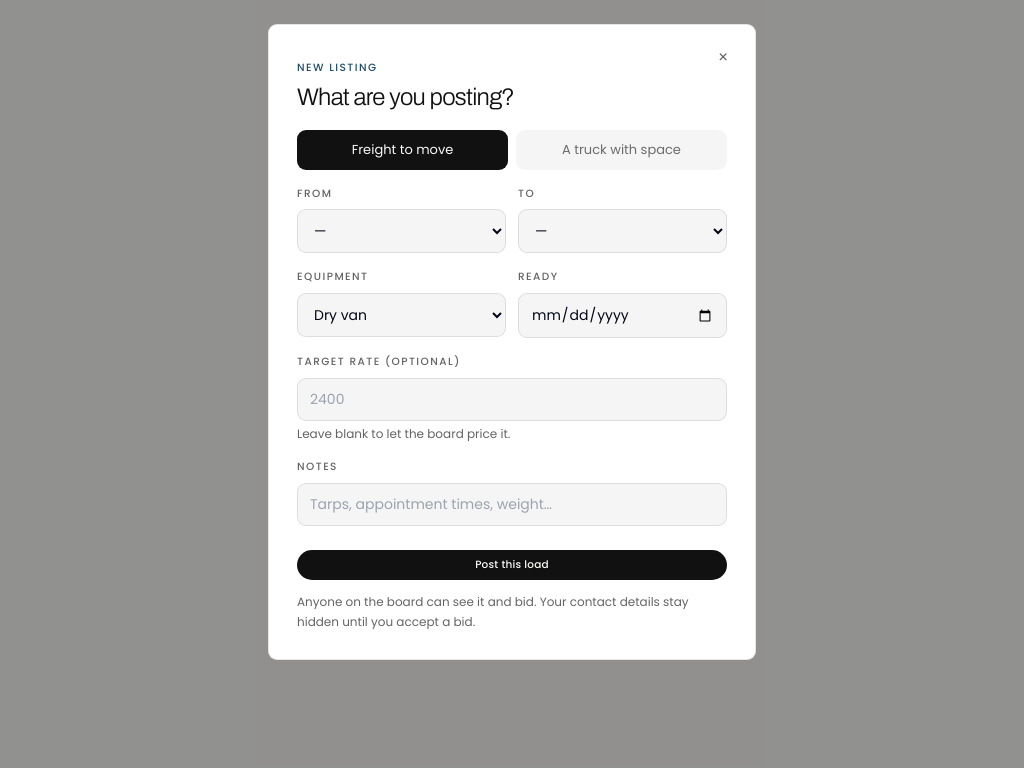
PostListing › 1.1 createListing rejects -> error rendered, success screen not shown
This screenshot has width=1024, height=768.
Step 1. Select "Memphis" in the dropdown labelled "From" → (402,231), box 297,209 -> 506,253
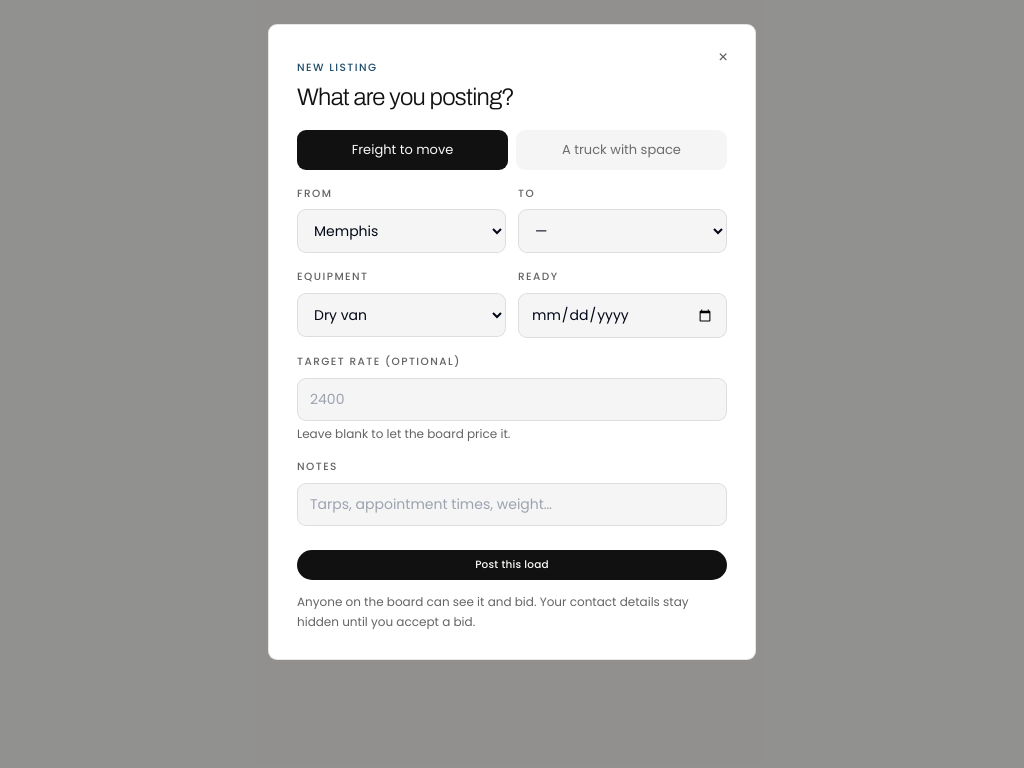
Step 2. Select "Chicago" in the dropdown labelled "To" → (622,231), box 518,209 -> 727,253
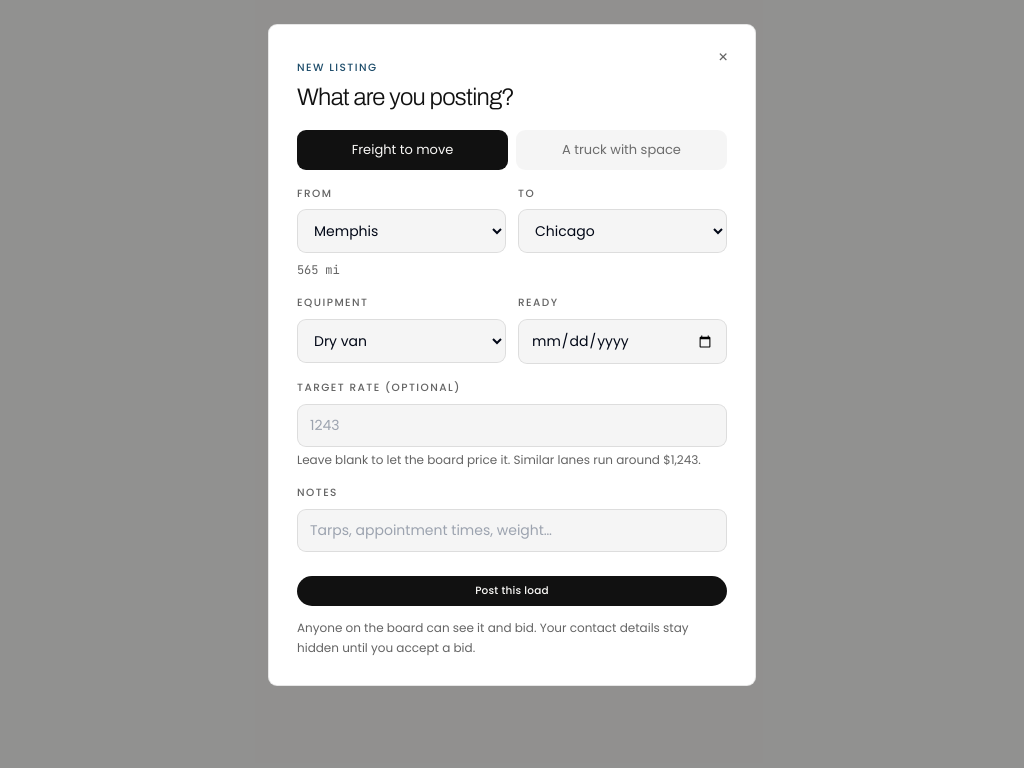
Step 3. Click the button "Post this load" → (512,591), box 297,576 -> 727,606
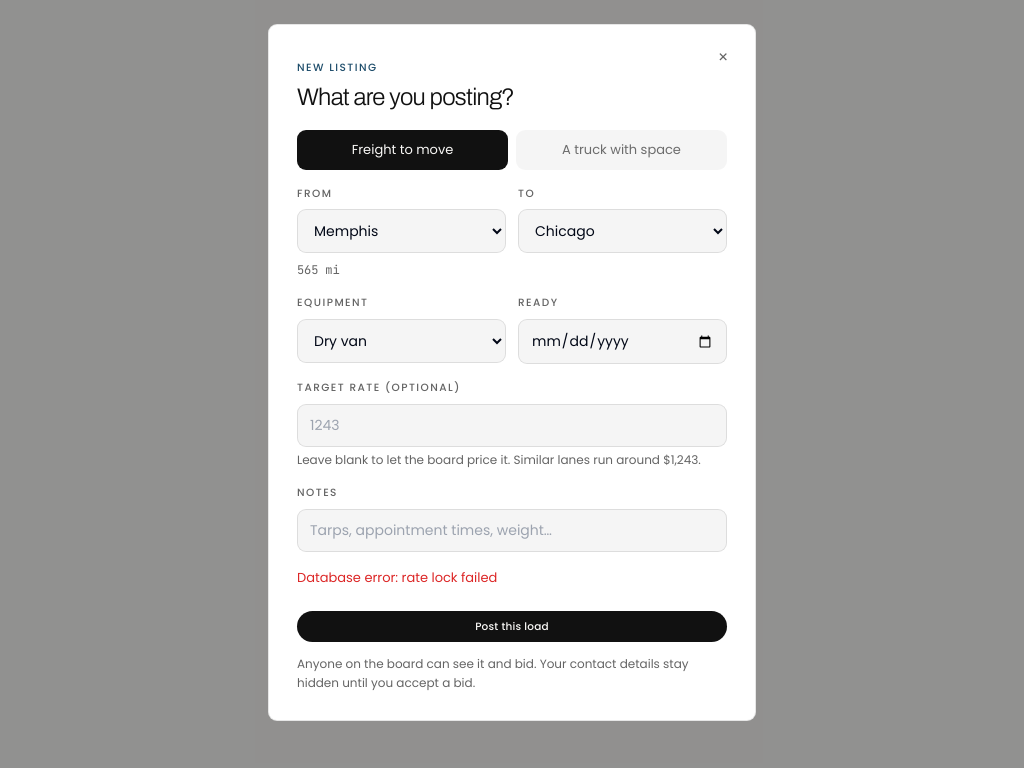
Now the message reads "Database error: rate lock failed", box 297,568 -> 497,587
